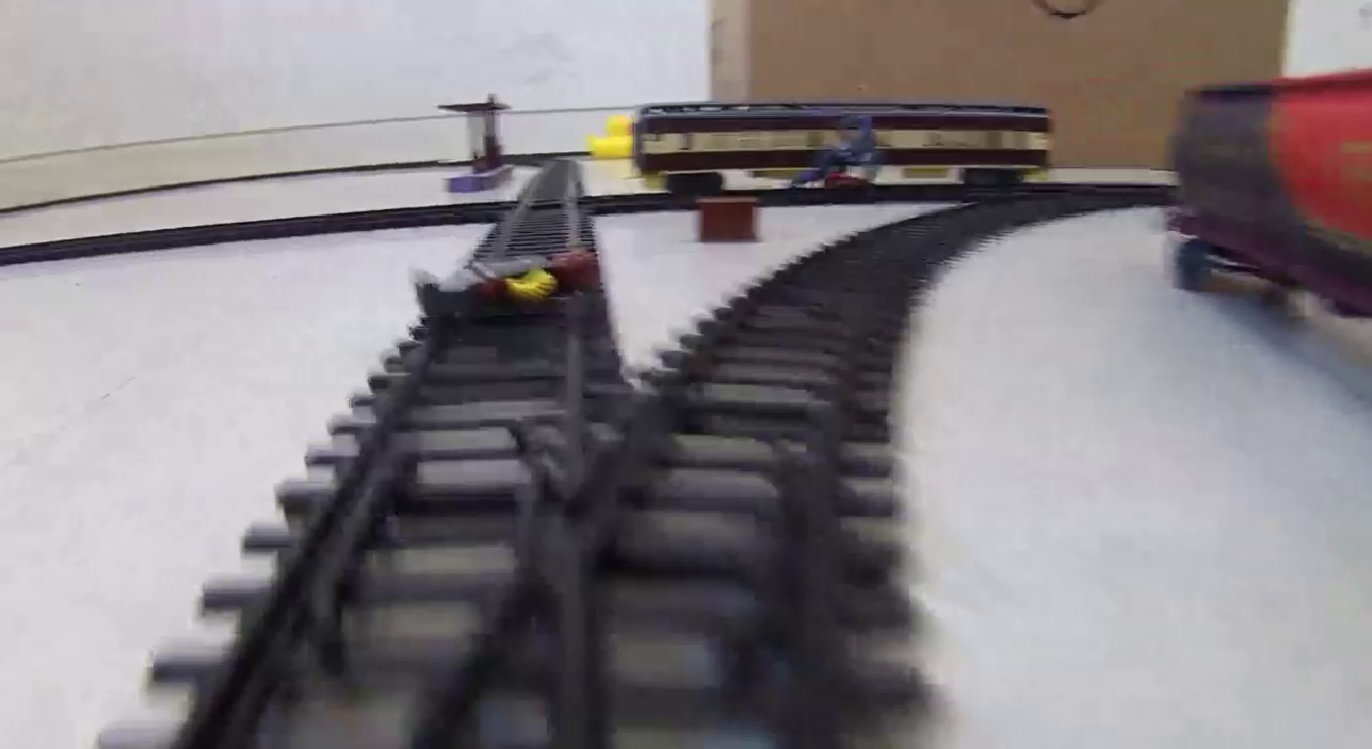box: (695, 195, 763, 248)
people: (412, 244, 605, 315)
